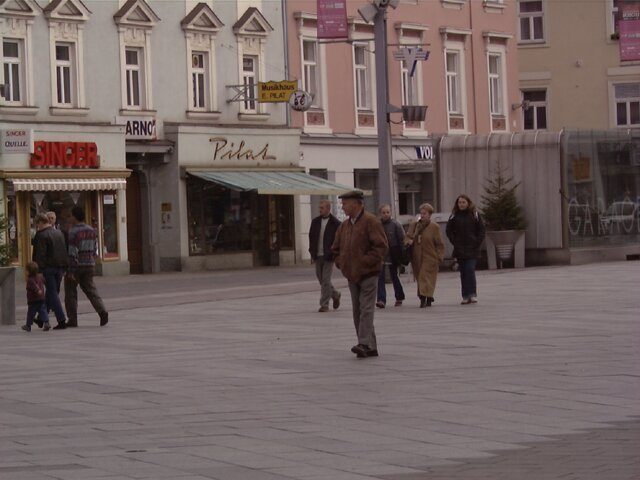person: (332, 186, 395, 365), (442, 193, 500, 303), (403, 203, 445, 308)
